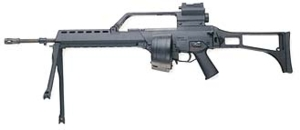rifle: (3, 14, 294, 120)
